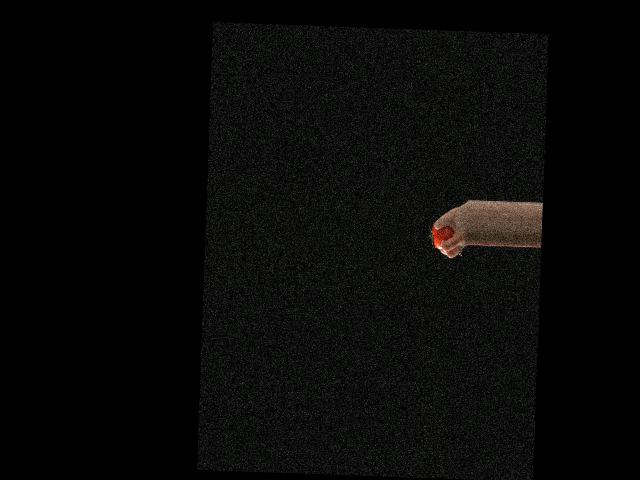tomato: (431, 224, 453, 249)
